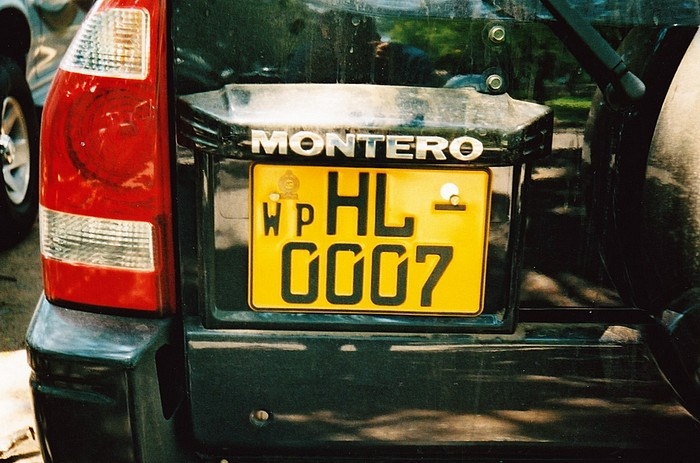doublelinenumberplate: (247, 157, 494, 318)
